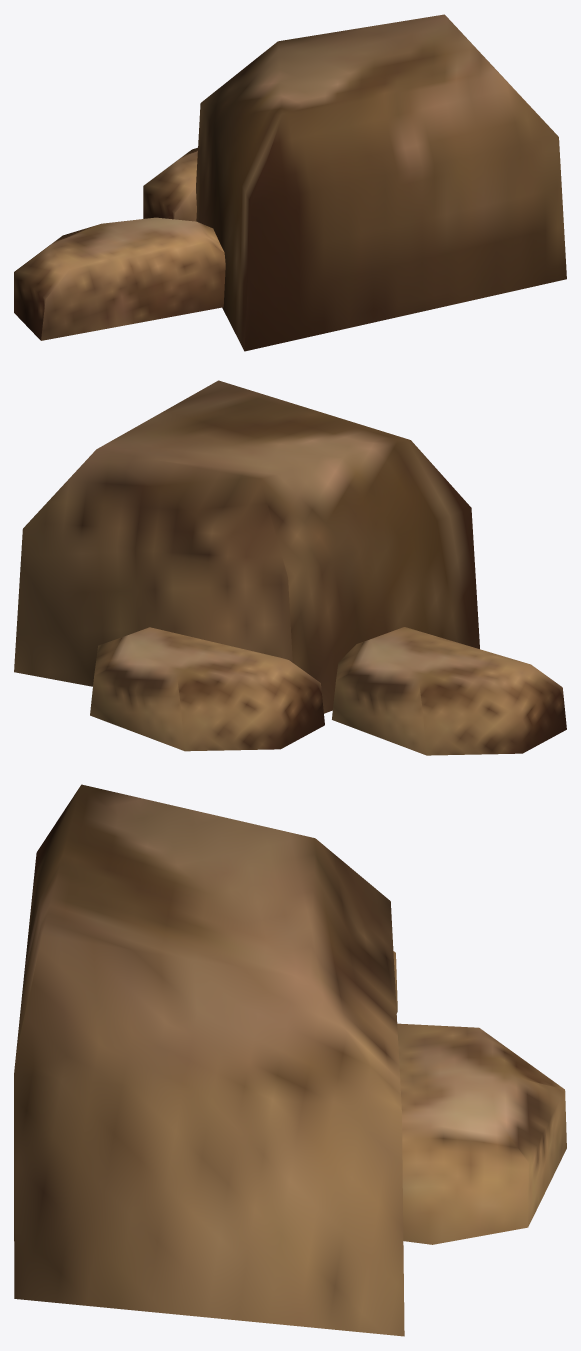
The model's file is shitou18.FBX.
The picture shows the model from 3 angles, top to bottom: view 1: azimuth 30°, elevation 25°; view 2: azimuth 150°, elevation 25°; view 3: azimuth 270°, elevation 25°; orthographic projection. The views are drawn at different scales.
Visible parts, largest first — view 1: shitou18; view 2: shitou18; view 3: shitou18.
Part boxes in pixels (x1,y1,x2,y2): shitou18: (14,14,566,351); shitou18: (14,380,566,755); shitou18: (14,784,566,1336).
Bounding box in the file's own units: 55.86 × 24.5 × 36.26.
